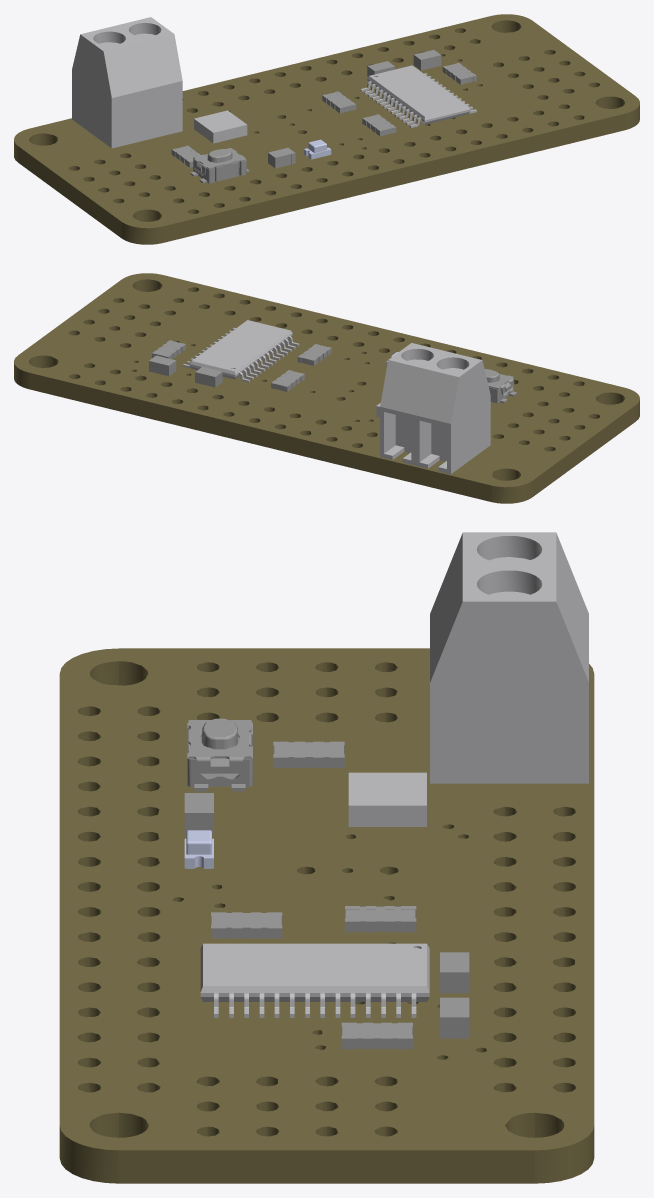
File: ada-2928.glb
3 views of the same model, one above another, from view 1: azimuth 30°, elevation 25°; view 2: azimuth 150°, elevation 25°; view 3: azimuth 270°, elevation 25° (orthographic). The views are drawn at different scales.
Parts seen in each view (by area): view 1: 0.16666666666666666_0.16666666666666666_0.08333333333333333_, 0.5833333333333334_0.5833333333333334_0.5833333333333334_0.8, 0.3333333333333333_0.3333333333333333_0.3333333333333333_0, 0.5833333333333334_0.6666666666666666_0.8333333333333334_0; view 2: 0.16666666666666666_0.16666666666666666_0.08333333333333333_, 0.5833333333333334_0.5833333333333334_0.5833333333333334_0.8, 0.3333333333333333_0.3333333333333333_0.3333333333333333_0; view 3: 0.16666666666666666_0.16666666666666666_0.08333333333333333_, 0.5833333333333334_0.5833333333333334_0.5833333333333334_0.8, 0.3333333333333333_0.3333333333333333_0.3333333333333333_0, 0.5833333333333334_0.6666666666666666_0.8333333333333334_0.
Part boxes in pixels (x1,y1,x2,y2): 0.16666666666666666_0.16666666666666666_0.08333333333333333_: (14,14,639,244); 0.5833333333333334_0.5833333333333334_0.5833333333333334_0.8: (72,17,476,148); 0.3333333333333333_0.3333333333333333_0.3333333333333333_0: (171,50,476,183); 0.5833333333333334_0.6666666666666666_0.8333333333333334_0: (304,139,331,159); 0.16666666666666666_0.16666666666666666_0.08333333333333333_: (14,273,639,503); 0.5833333333333334_0.5833333333333334_0.5833333333333334_0.8: (183,320,490,474); 0.3333333333333333_0.3333333333333333_0.3333333333333333_0: (149,340,516,406); 0.16666666666666666_0.16666666666666666_0.08333333333333333_: (59,648,594,1183); 0.5833333333333334_0.5833333333333334_0.5833333333333334_0.8: (200,532,588,1017); 0.3333333333333333_0.3333333333333333_0.3333333333333333_0: (184,718,469,1049); 0.5833333333333334_0.6666666666666666_0.8333333333333334_0: (184,830,213,868).
Size of the model in its own units: 5.08 by 1.02 by 2.29.
